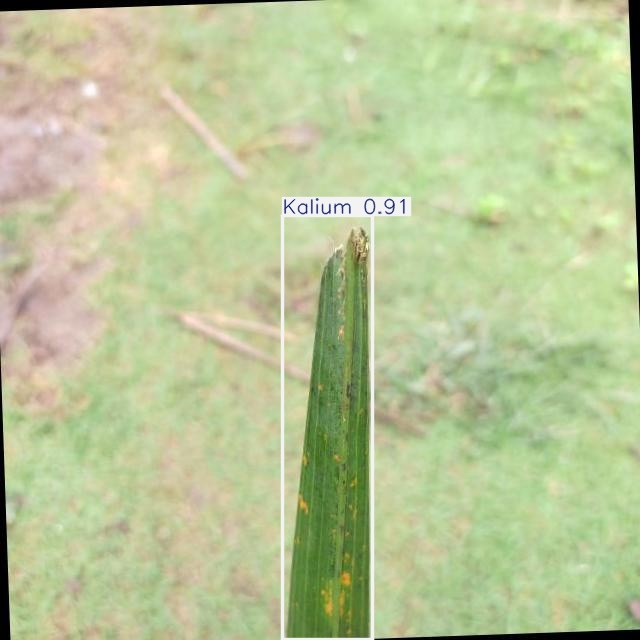Kalium: (283, 216, 372, 639)
